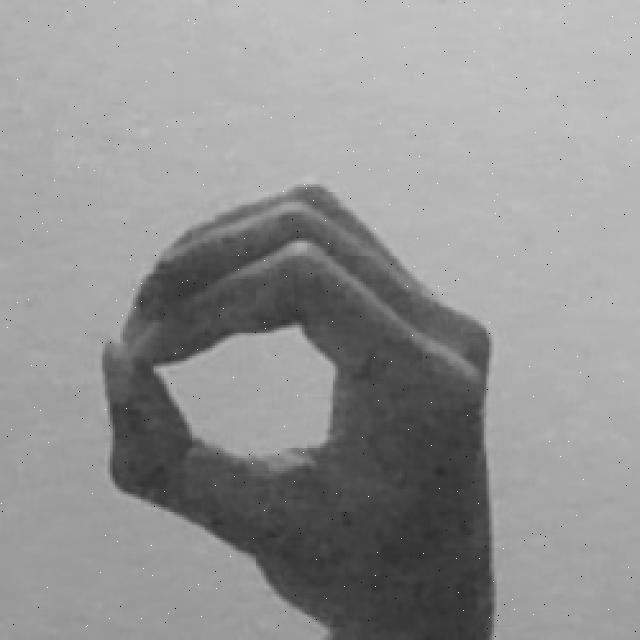O: (99, 173, 511, 640)
